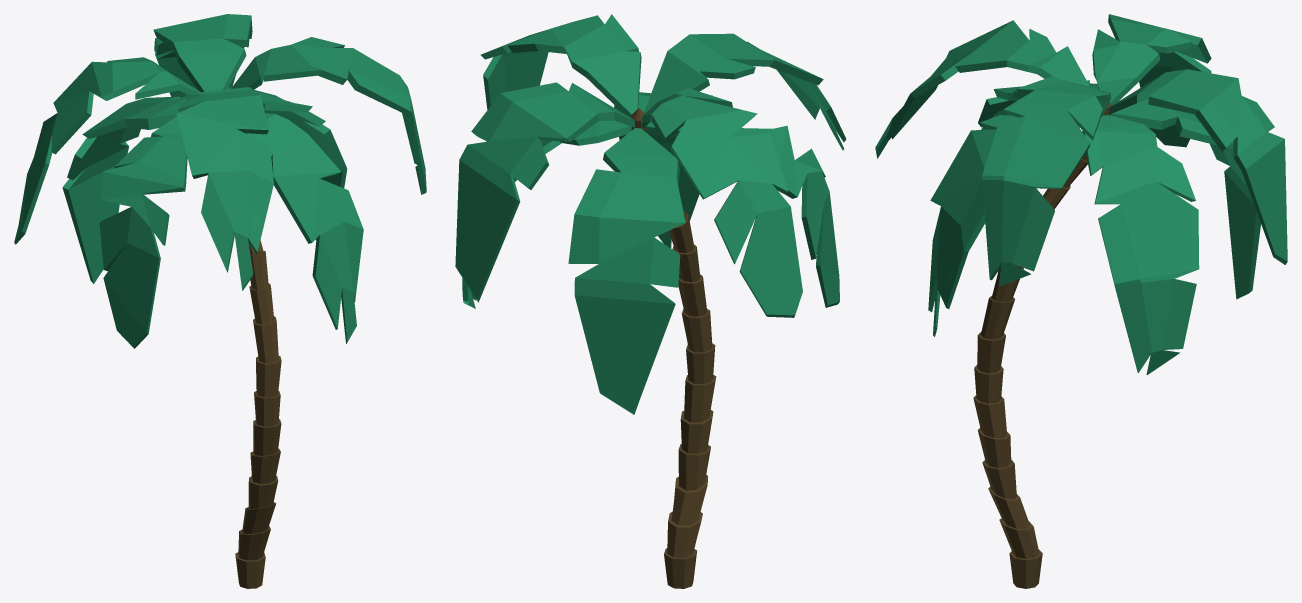
File: PalmTree_2.fbx
The picture shows the model from 3 angles, left to right: view 1: azimuth 30°, elevation 25°; view 2: azimuth 150°, elevation 25°; view 3: azimuth 270°, elevation 25°; orthographic projection. The views are drawn at different scales.
Visible parts, largest first — view 1: PalmTree.002; view 2: PalmTree.002; view 3: PalmTree.002.
Part boxes in pixels (bbox=[...]): PalmTree.002: bbox=[14, 14, 426, 588]; PalmTree.002: bbox=[455, 14, 846, 588]; PalmTree.002: bbox=[875, 14, 1287, 588].
Bounding box in the file's own units: 341 × 477 × 337.
